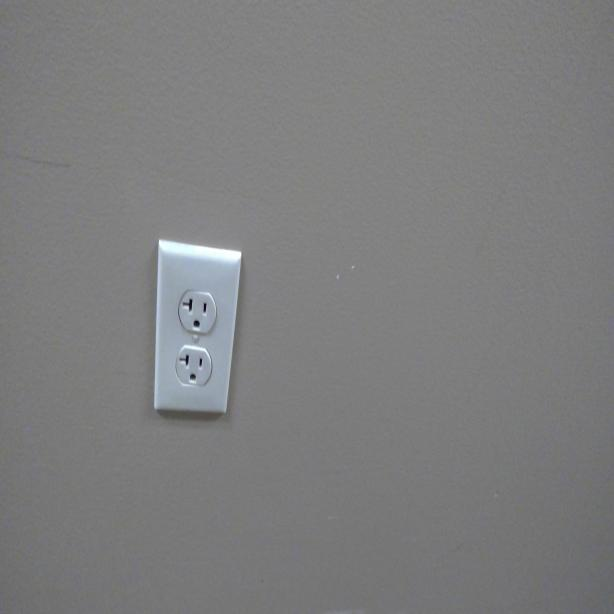typeb: (177, 347, 208, 391), (179, 294, 213, 334)
